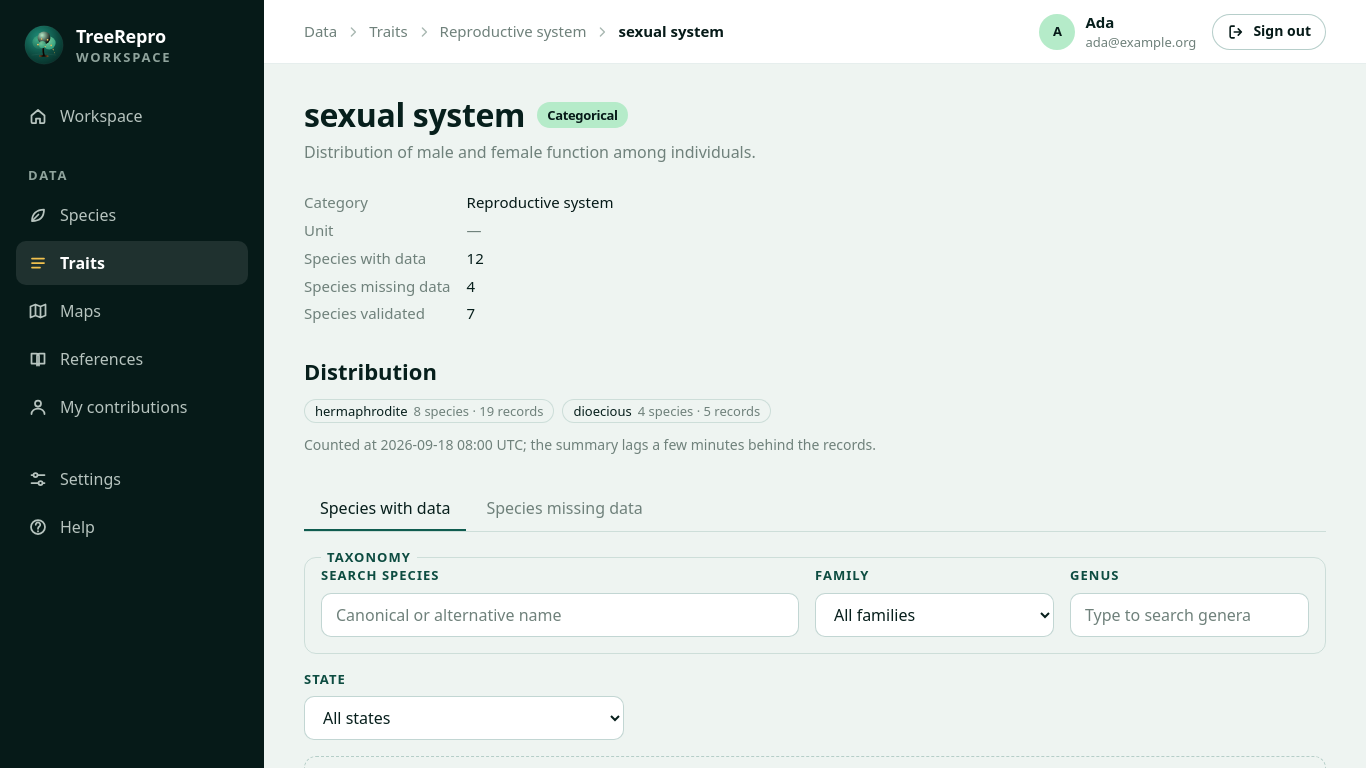
Test: RFC-62 R8 TraitPage species tabs › says so when a tab has no species, each in its own words
Step 1. Click the tab "Species missing data" → [565, 509], box [470,487,659,531]
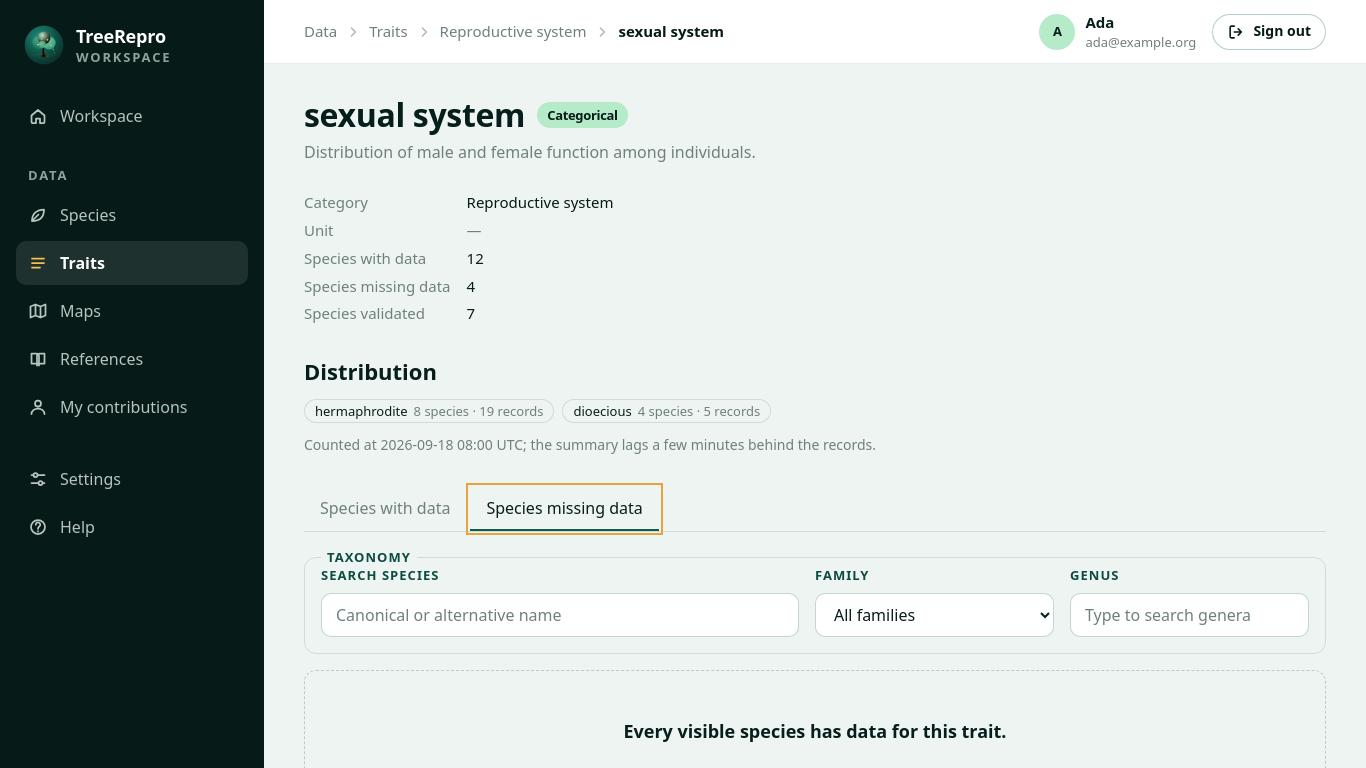
Expected: the text "Every visible species has data for this trait." is shown, [624,719,1006,743]
